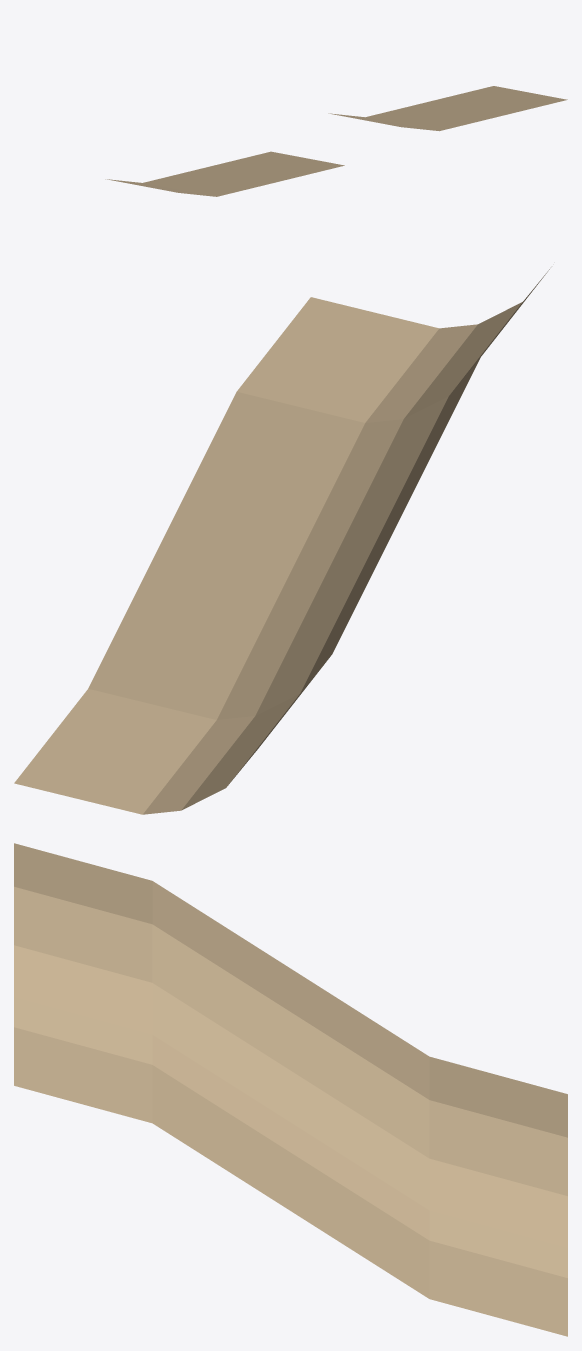
The model's file is Escarpment_Terrain_Hill_Base.glb.
The picture shows the model from 3 angles, top to bottom: view 1: azimuth 30°, elevation 25°; view 2: azimuth 150°, elevation 25°; view 3: azimuth 270°, elevation 25°; orthographic projection. The views are drawn at different scales.
Parts seen in each view (by area): view 1: Escarpment_Terrain_Hill_Base; view 2: Escarpment_Terrain_Hill_Base; view 3: Escarpment_Terrain_Hill_Base.
Boxes of the visible parts, <box> form: Escarpment_Terrain_Hill_Base: <box>105,86,567,196</box>; Escarpment_Terrain_Hill_Base: <box>14,269,549,814</box>; Escarpment_Terrain_Hill_Base: <box>14,843,567,1336</box>.
Bounding box in the file's own units: 1 × 1.5 × 2.
